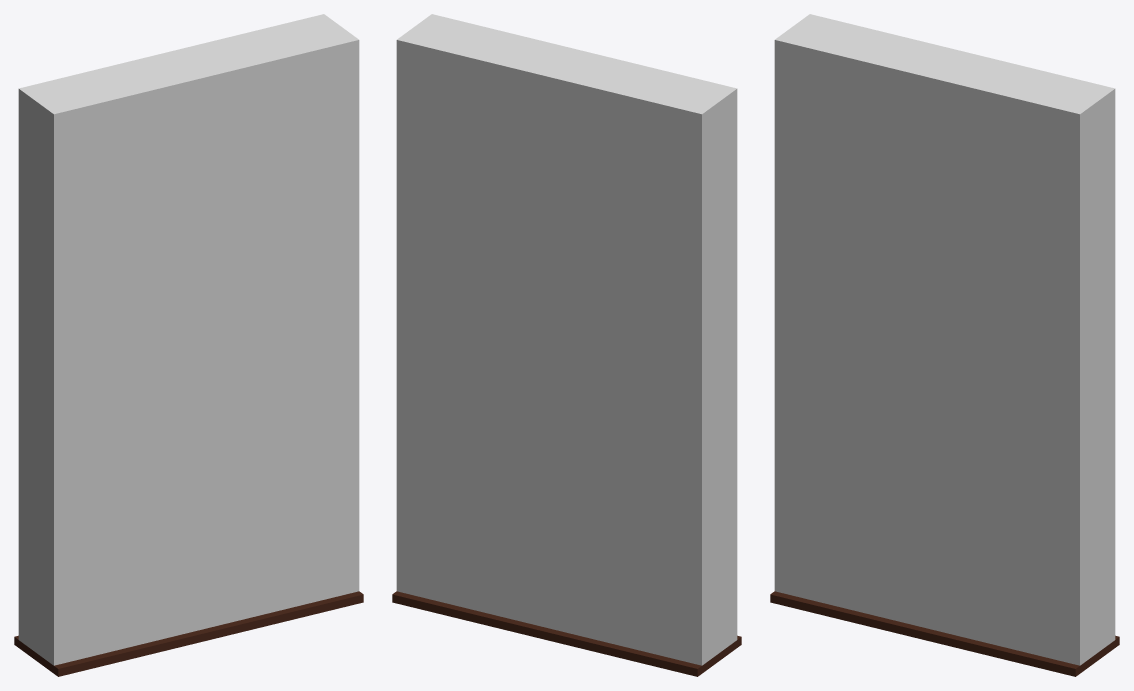
The model's file is Wall - banheiro.fbx.
3 renders of one model, left to right at view 1: azimuth 30°, elevation 25°; view 2: azimuth 150°, elevation 25°; view 3: azimuth 330°, elevation 25°, orthographic.
Parts seen in each view (by area): view 1: Cube.256; view 2: Cube.256; view 3: Cube.256.
Part boxes in pixels (left/top/right/bottom): Cube.256: left=14, top=14, right=363, bottom=676; Cube.256: left=392, top=14, right=741, bottom=676; Cube.256: left=770, top=14, right=1119, bottom=676.
Bounding box in the file's own units: 400 × 700 × 100.
